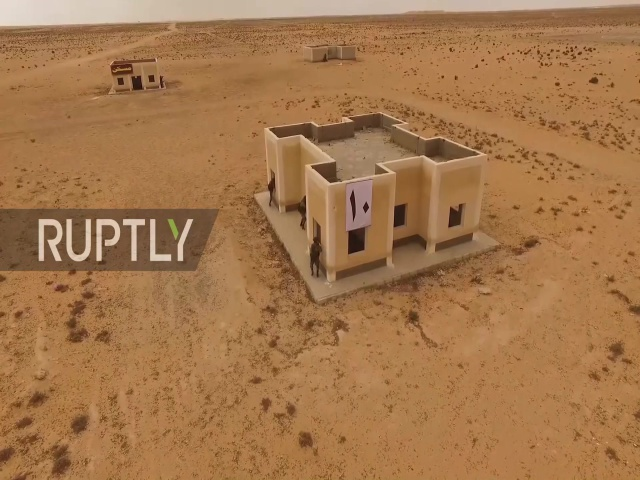person: (307, 233, 321, 278), (293, 197, 305, 230), (266, 179, 277, 205)
